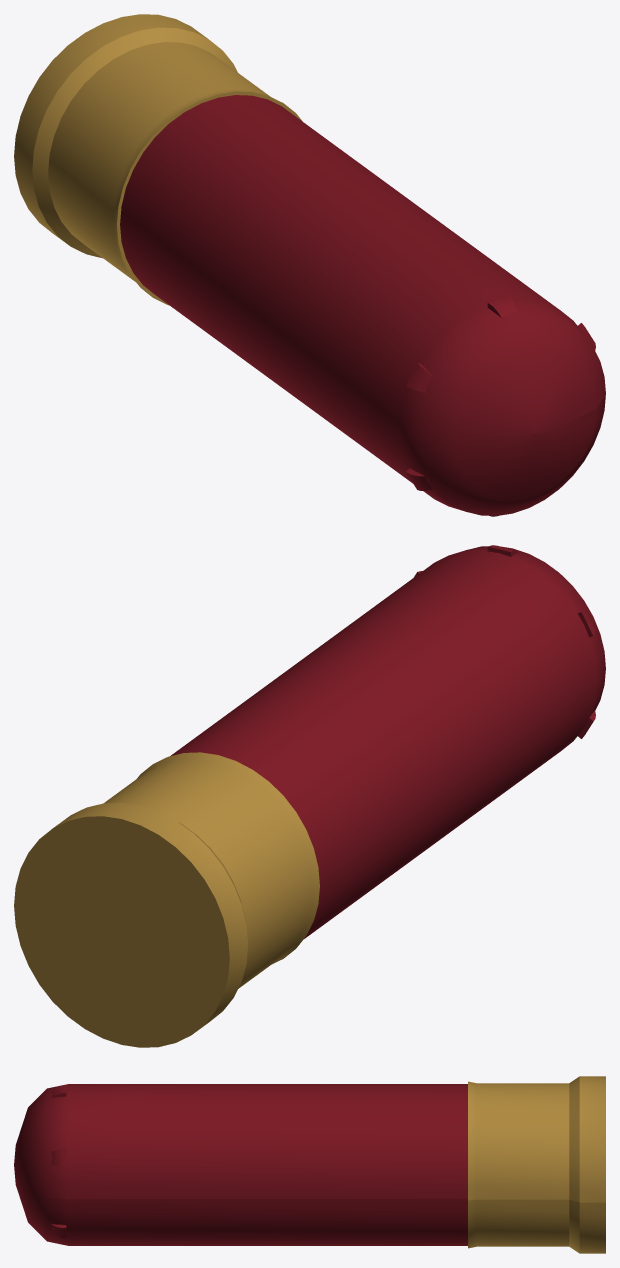
The model's file is weapon_scattergun_magazine.glb.
The picture shows the model from 3 angles, top to bottom: view 1: azimuth 30°, elevation 25°; view 2: azimuth 150°, elevation 25°; view 3: azimuth 270°, elevation 25°; orthographic projection. The views are drawn at different scales.
Visible parts, largest first — view 1: scattergun_shell_body, scattergun_shell_head; view 2: scattergun_shell_body, scattergun_shell_head; view 3: scattergun_shell_body, scattergun_shell_head, scattergun_shell_crimp_5.
Boxes of the visible parts, bbox=[...] form: scattergun_shell_body: bbox=[120, 95, 605, 515]; scattergun_shell_head: bbox=[14, 14, 302, 305]; scattergun_shell_body: bbox=[170, 546, 605, 938]; scattergun_shell_head: bbox=[14, 752, 319, 1047]; scattergun_shell_body: bbox=[14, 1084, 467, 1245]; scattergun_shell_head: bbox=[468, 1076, 605, 1253]; scattergun_shell_crimp_5: bbox=[51, 1148, 66, 1167].
Size of the model in its own units: 0.0204 by 0.0204 by 0.0678.
